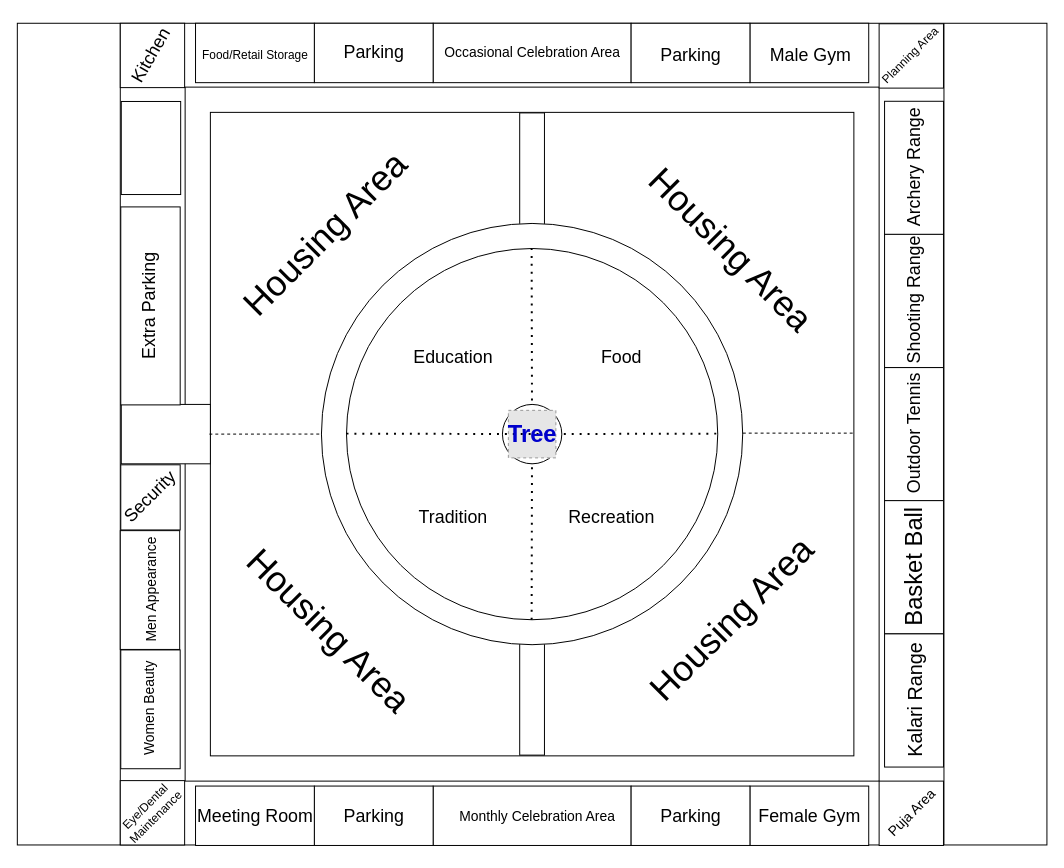
Image size: 1064x868. Some labels were removed from this diagram. Grey dashed boxes stand in for pictures. Each missing label, with the centre of its shape:
"Entrance >" belongs at (165,433).
"Generator/Bio-Gas" belongs at (150,147).
